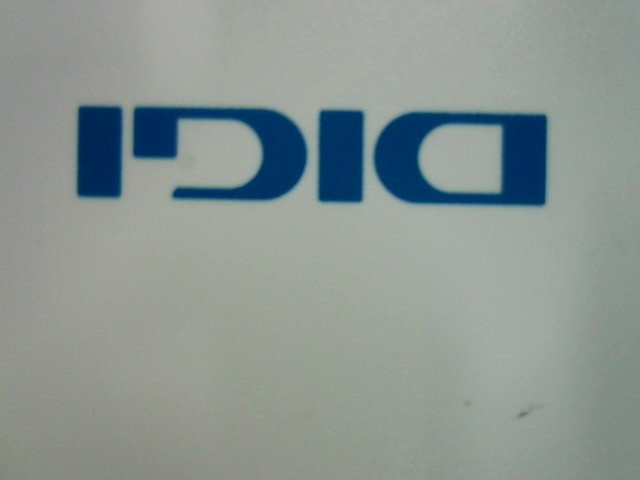BL_DIGI: (65, 83, 564, 213)
